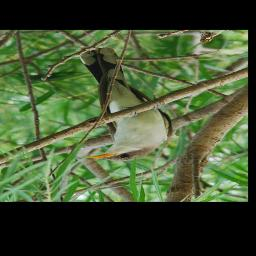Cuckoo: (78, 47, 173, 162)
